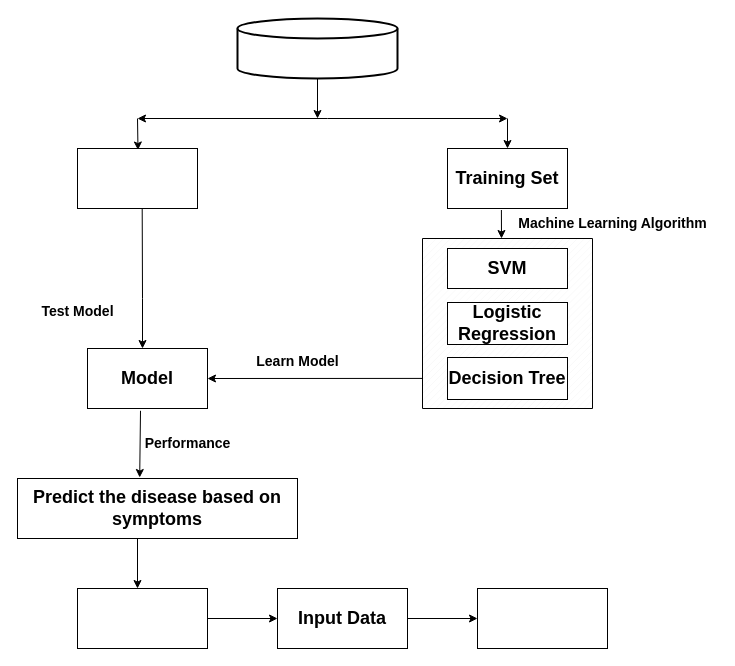
Image size: 735x666. Some labels were removed from this diagram. Here are the shapes that lost their labels. From the top down, the centre of each, then its label:
At (x=317, y=48): "Disease Dataset".
At (x=137, y=178): "Testing Set".
At (x=142, y=618): "Web Interface".
At (x=542, y=618): "Result".
